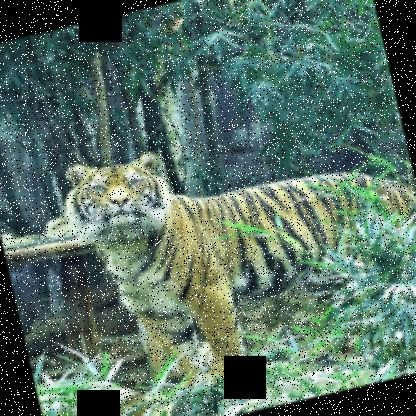Panthera tigris: (54, 89, 415, 412)
